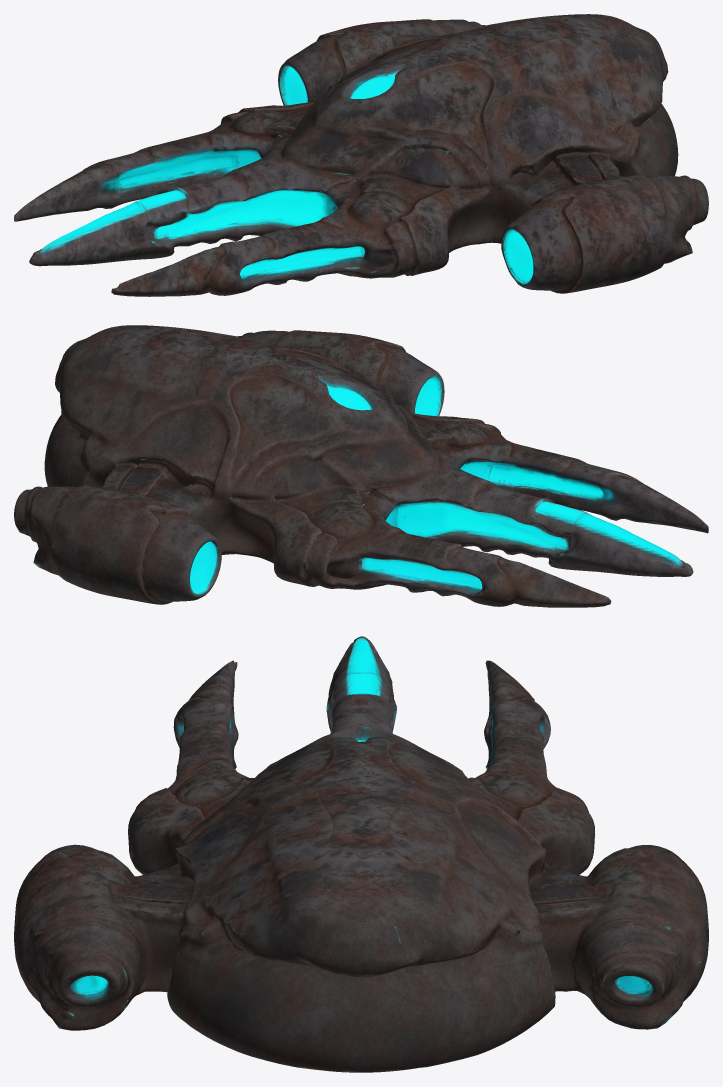
The model's file is aci-05.glb.
3 views of the same model, one above another, from view 1: azimuth 30°, elevation 25°; view 2: azimuth 150°, elevation 25°; view 3: azimuth 270°, elevation 25° (orthographic). The views are drawn at different scales.
Parts seen in each view (by area): view 1: aci-05-master; view 2: aci-05-master; view 3: aci-05-master.
Boxes of the visible parts, x1,y1,x2,y2 form: aci-05-master: (14, 14, 708, 296); aci-05-master: (14, 325, 708, 607); aci-05-master: (14, 636, 708, 1072).
Size of the model in its own units: 1.89 by 0.4671 by 1.42.
Materials: 1 (1 with a texture image).
